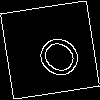O: (25, 25, 86, 84)
